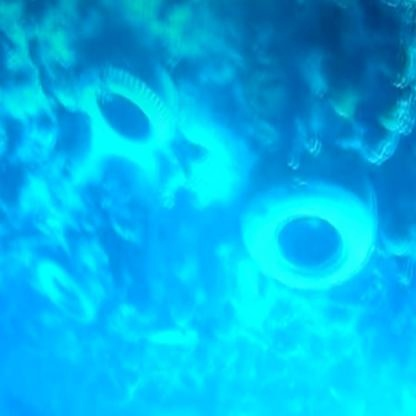tire: (236, 164, 396, 291), (86, 50, 177, 165), (38, 257, 96, 326)
